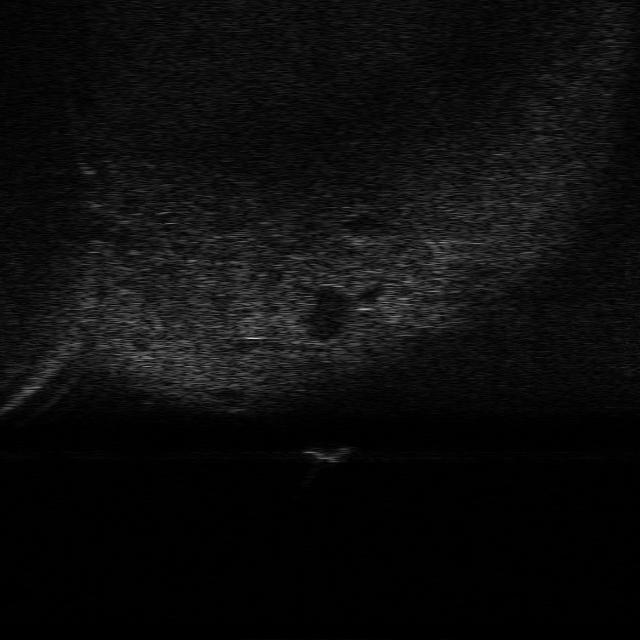cube: (301, 442, 355, 464)
